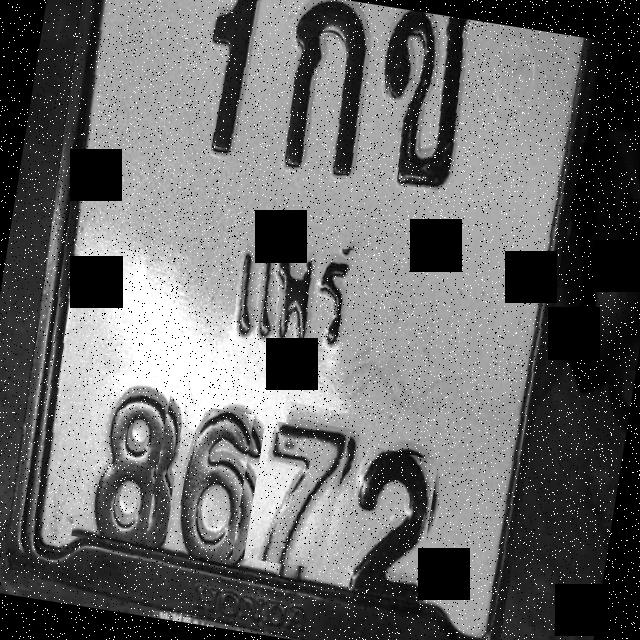letters: (366, 8, 480, 207), (263, 0, 384, 177), (72, 370, 172, 548), (244, 420, 350, 572), (337, 444, 439, 598), (186, 0, 276, 171), (162, 404, 255, 564)
license-plate: (19, 0, 595, 640)
province: (181, 226, 386, 377)
